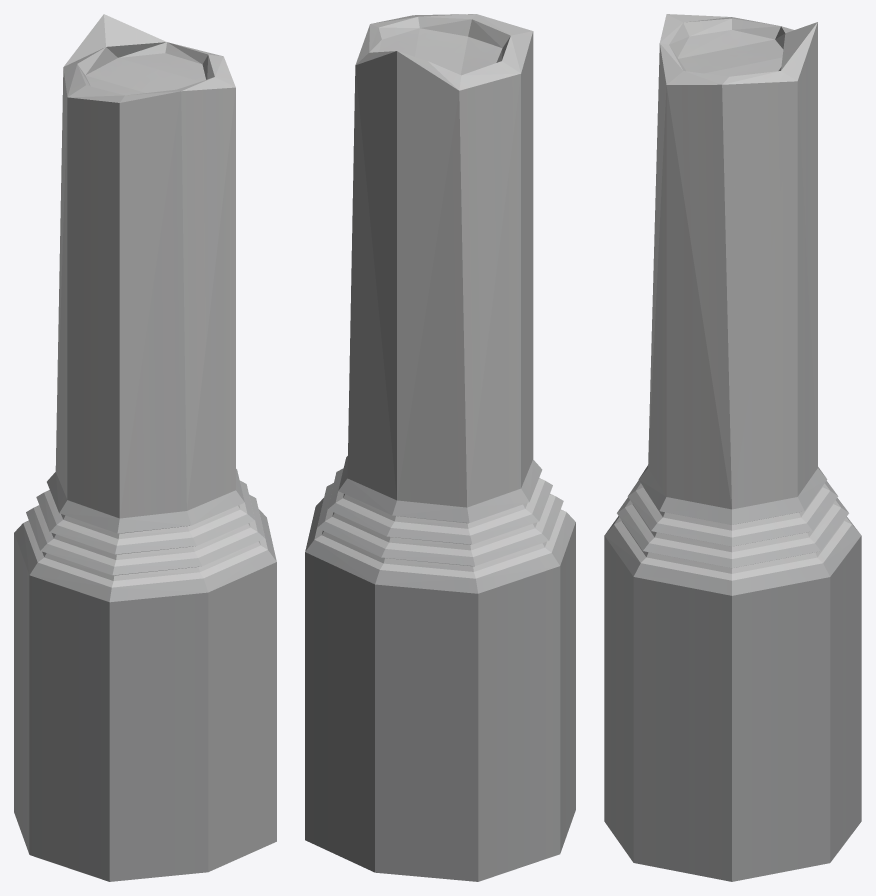
The model's file is gas_station_column_B.obj.
3 views of the same model, side by side, from view 1: azimuth 30°, elevation 25°; view 2: azimuth 150°, elevation 25°; view 3: azimuth 270°, elevation 25° (orthographic). The views are drawn at different scales.
Visible parts, largest first — view 1: gas_station_column_B_Mesh; view 2: gas_station_column_B_Mesh; view 3: gas_station_column_B_Mesh.
Boxes of the visible parts, x1,y1,x2,y2 form: gas_station_column_B_Mesh: (14,14,276,881); gas_station_column_B_Mesh: (305,14,575,881); gas_station_column_B_Mesh: (604,14,861,881).
Size of the model in its own units: 0.7756 by 2.44 by 0.7113.
